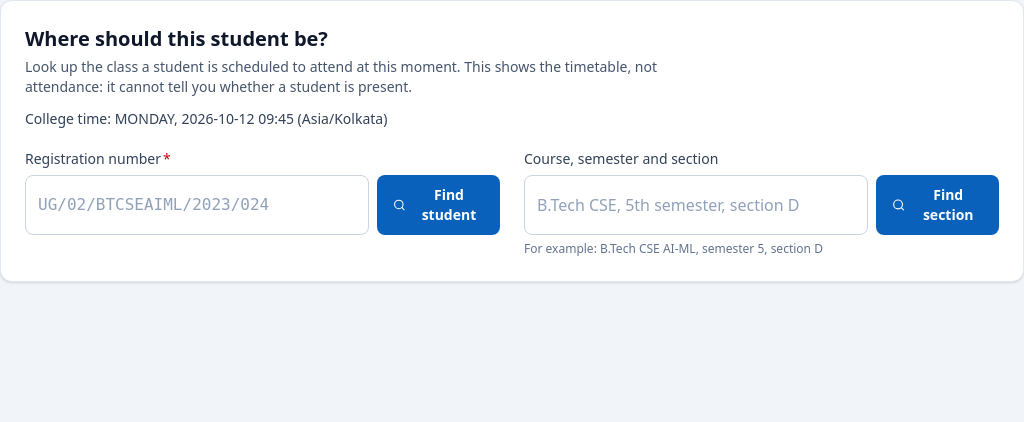
DashboardPage › reports a registration number that matches nothing
Type "UG/02/NOPE/2023/999" into the search field labelled "Registration number*". click: x=197, y=205
box: [25, 175, 369, 235]
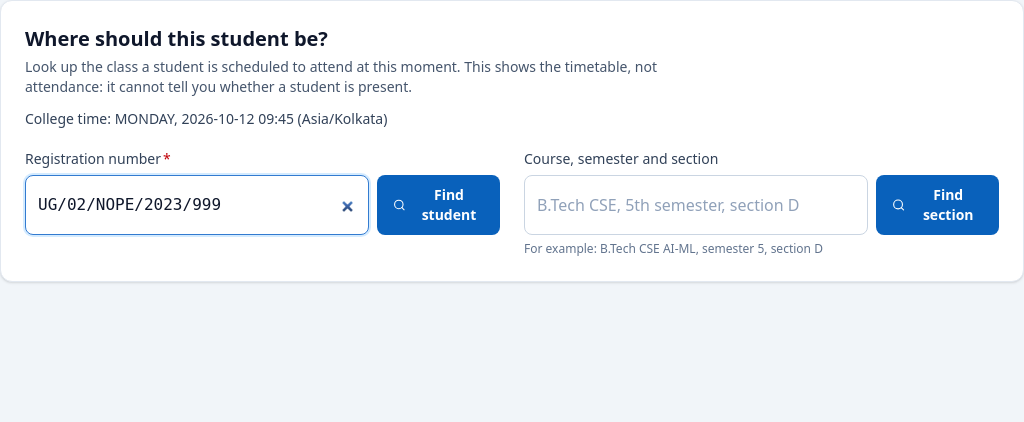
Click the button "Find student". click: x=439, y=205
box: [377, 175, 500, 235]
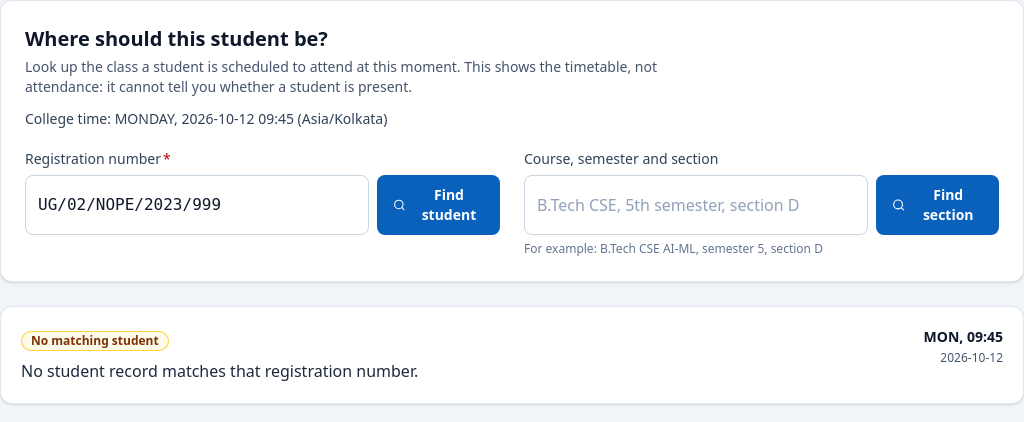
Expected: the text "No matching student" is shown, [21, 331, 169, 351]
